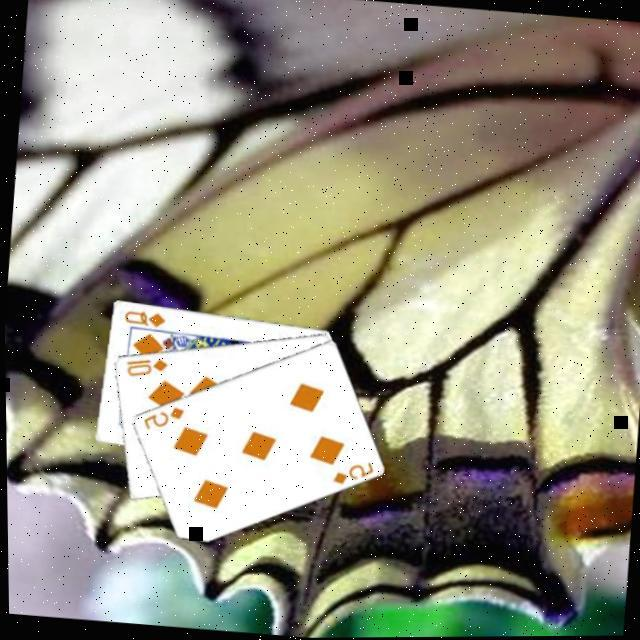10D: (119, 351, 167, 380)
5D: (324, 454, 373, 489), (136, 399, 184, 433)
QD: (116, 304, 166, 330)
